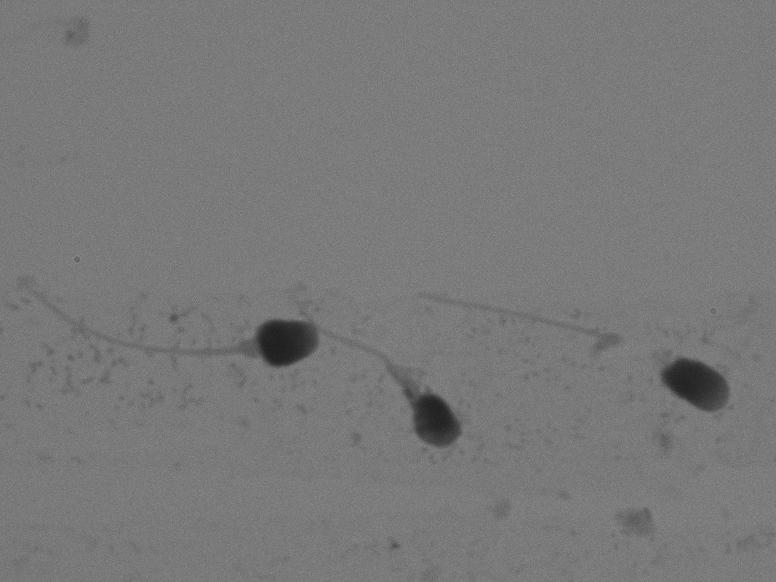Abnormal: (385, 266, 755, 433), (8, 247, 326, 404), (329, 279, 476, 463)
